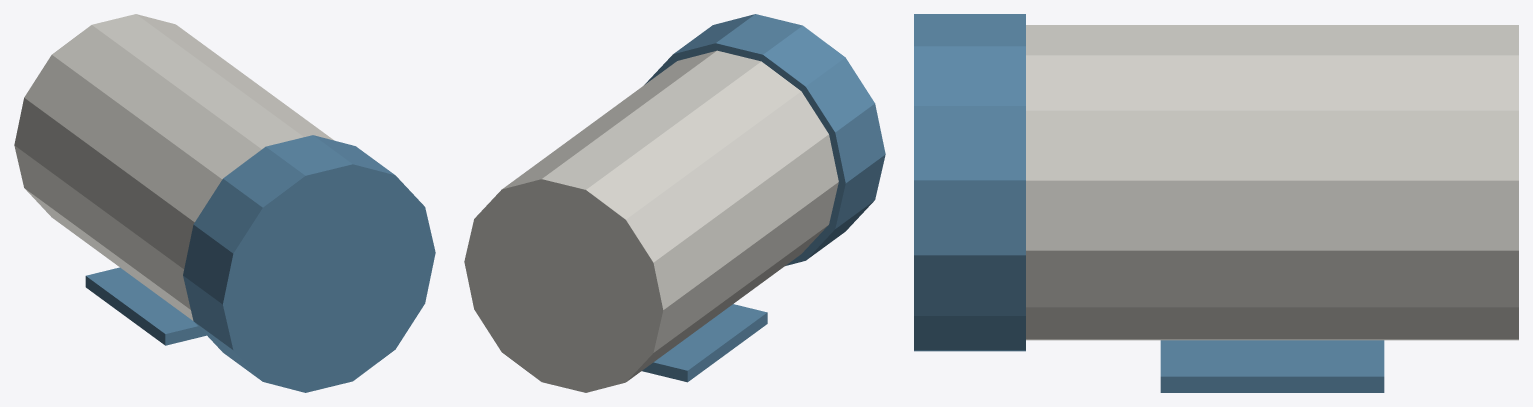
The model's file is painkillers.glb.
3 views of the same model, side by side, from view 1: azimuth 30°, elevation 25°; view 2: azimuth 150°, elevation 25°; view 3: azimuth 270°, elevation 25° (orthographic). The views are drawn at different scales.
Visible parts, largest first — view 1: 01_cap, 00_medicine_bottle, 02_label; view 2: 00_medicine_bottle, 01_cap, 02_label; view 3: 00_medicine_bottle, 01_cap, 02_label.
Boxes of the visible parts, x1,y1,x2,y2 form: 01_cap: [183, 135, 435, 392]; 00_medicine_bottle: [14, 14, 334, 320]; 02_label: [85, 267, 206, 345]; 00_medicine_bottle: [464, 50, 838, 392]; 01_cap: [644, 14, 885, 265]; 02_label: [642, 304, 767, 382]; 00_medicine_bottle: [1026, 25, 1518, 340]; 01_cap: [914, 14, 1025, 351]; 02_label: [1160, 340, 1384, 392].
Bounding box in the file's own units: 0.154 × 0.1629 × 0.27.
